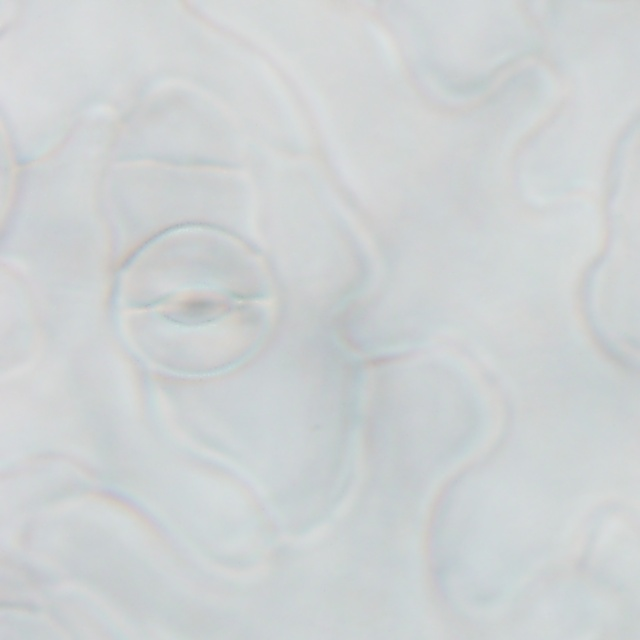center: (150, 285, 241, 327), (0, 169, 31, 172)
stomata-huw1: (115, 226, 276, 378), (0, 116, 12, 225)
